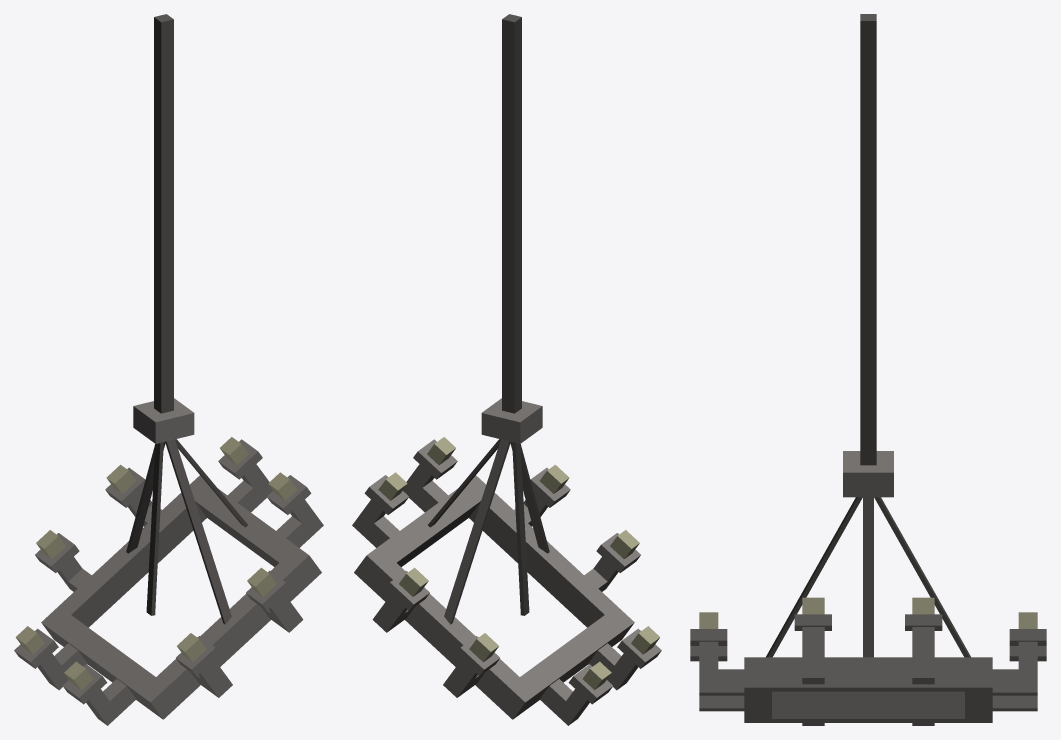
File: AI_Env_Church_Chandelier_Broken.fbx
3 views of the same model, side by side, from view 1: azimuth 30°, elevation 25°; view 2: azimuth 150°, elevation 25°; view 3: azimuth 270°, elevation 25° (orthographic). The views are drawn at different scales.
Visible parts, largest first — view 1: AI_Env_Church_Chandelier_Broken; view 2: AI_Env_Church_Chandelier_Broken; view 3: AI_Env_Church_Chandelier_Broken.
Part boxes in pixels (bbox=[...]): AI_Env_Church_Chandelier_Broken: bbox=[14, 14, 323, 725]; AI_Env_Church_Chandelier_Broken: bbox=[352, 14, 661, 725]; AI_Env_Church_Chandelier_Broken: bbox=[690, 14, 1046, 725].
Size of the model in its own units: 1.84 by 4.68 by 2.
